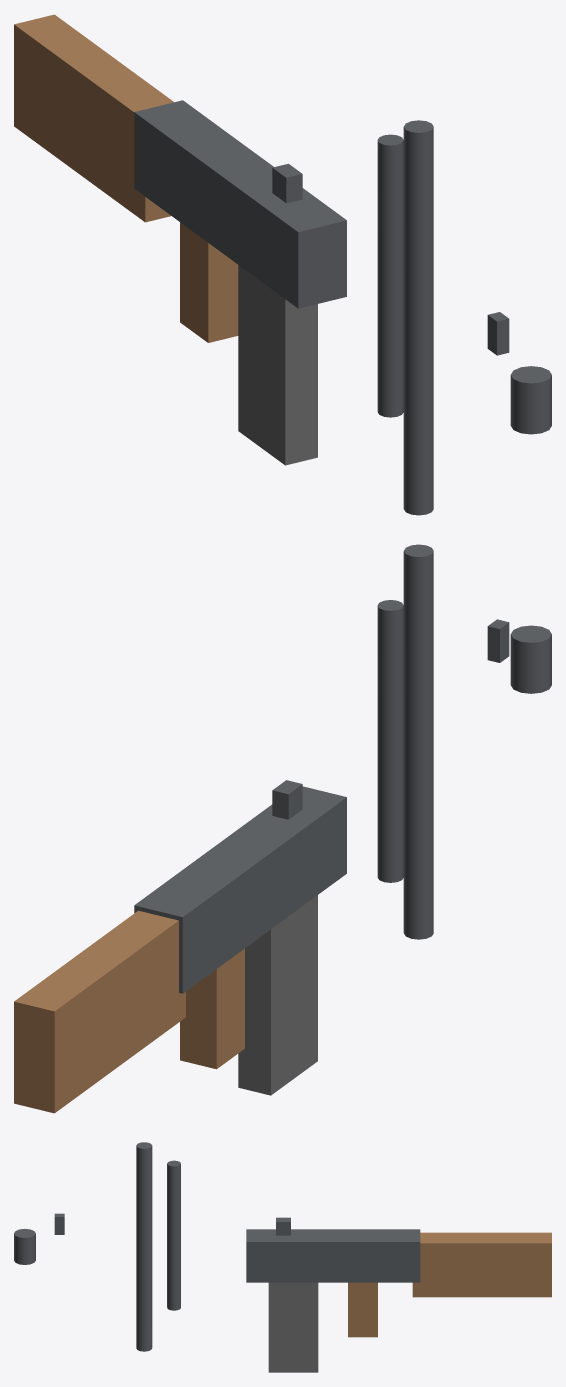
3 renders of one model, top to bottom at view 1: azimuth 30°, elevation 25°; view 2: azimuth 150°, elevation 25°; view 3: azimuth 270°, elevation 25°, orthographic. The views are drawn at different scales.
Parts seen in each view (by area): view 1: Receiver, Stock, Magazine, Barrel, GasTube, PistolGrip, MuzzleBrake, RearSight, FrontSight; view 2: Stock, Receiver, Barrel, Magazine, GasTube, PistolGrip, MuzzleBrake, RearSight, FrontSight; view 3: Receiver, Stock, Magazine, Barrel, GasTube, PistolGrip, MuzzleBrake.
Part boxes in pixels (x1,y1,x2,y2): Receiver: (134, 100, 346, 308); Stock: (14, 14, 173, 222); Magazine: (238, 265, 317, 465); Barrel: (403, 120, 433, 515); GasTube: (377, 134, 403, 417); PistolGrip: (180, 222, 238, 342); MuzzleBrake: (510, 366, 551, 434); RearSight: (272, 163, 302, 203); FrontSight: (487, 312, 509, 355); Stock: (14, 910, 185, 1113); Receiver: (134, 786, 346, 993); Barrel: (403, 544, 433, 939); Magazine: (238, 895, 317, 1095); GasTube: (377, 600, 403, 882); PistolGrip: (180, 948, 244, 1069); MuzzleBrake: (510, 625, 551, 693); RearSight: (272, 780, 302, 819); FrontSight: (487, 619, 509, 662); Receiver: (246, 1229, 420, 1282); Stock: (412, 1232, 551, 1297); Magazine: (268, 1282, 318, 1372); Barrel: (136, 1142, 152, 1351); GasTube: (167, 1160, 180, 1310); PistolGrip: (348, 1282, 377, 1337); MuzzleBrake: (14, 1229, 35, 1264).
Size of the model in its own units: 0.06 by 0.495 by 1.08.
